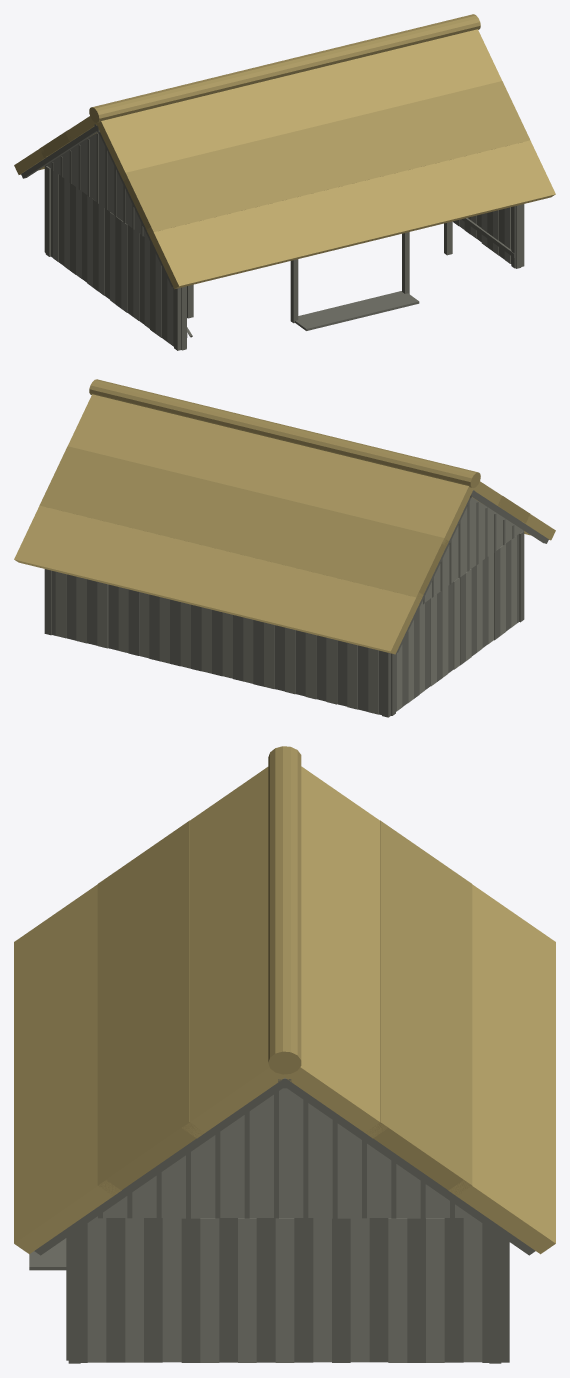
The model's file is greyfen-boathouse.glb.
The picture shows the model from 3 angles, top to bottom: view 1: azimuth 30°, elevation 25°; view 2: azimuth 150°, elevation 25°; view 3: azimuth 270°, elevation 25°; orthographic projection. The views are drawn at different scales.
Visible parts, largest first — view 1: Body_Thatch, Body_ThatchDark, Body_WoodDark, Body_Wood; view 2: Body_Thatch, Body_ThatchDark, Body_Wood, Body_WoodDark; view 3: Body_Thatch, Body_ThatchDark, Body_Wood, Body_WoodDark.
Boxes of the visible parts, x1,y1,x2,y2 form: Body_Thatch: (14, 29, 555, 289); Body_ThatchDark: (41, 14, 529, 234); Body_WoodDark: (21, 124, 524, 350); Body_Wood: (46, 132, 510, 345); Body_Thatch: (14, 394, 555, 654); Body_ThatchDark: (39, 379, 529, 598); Body_Wood: (55, 497, 523, 714); Body_WoodDark: (44, 490, 548, 717); Body_Thatch: (14, 766, 555, 1254); Body_ThatchDark: (97, 746, 472, 1195); Body_Wood: (87, 1088, 482, 1362); Body_WoodDark: (29, 1078, 535, 1363).
Bounding box in the file's own units: 8 × 4 × 6.
